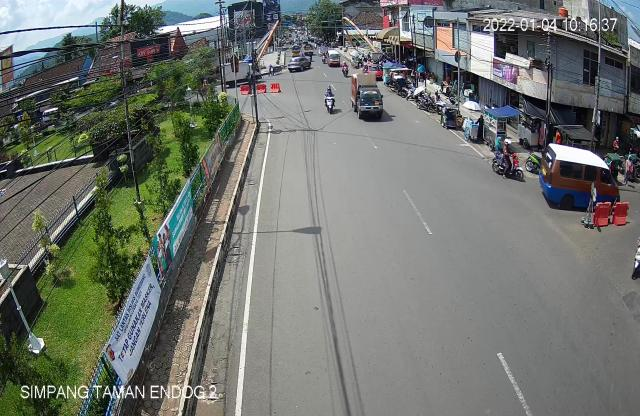Mobil: (538, 140, 626, 212), (349, 70, 386, 124)
Motor: (488, 134, 526, 187), (324, 86, 340, 117)
